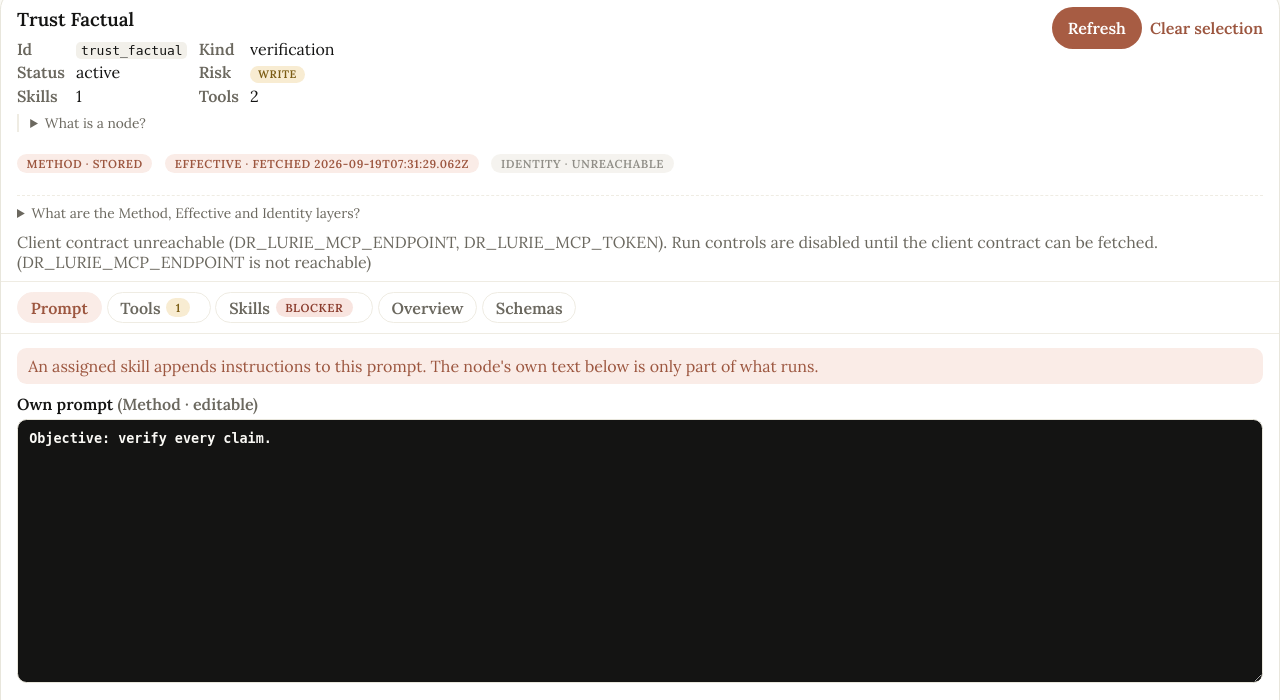
Scenario: NodeInspector › offers both schemas as editable JSON, and keeps the deprecated alias derived
Expected: the text "An assigned skill appends" is shown, left=28, top=356, right=818, bottom=376
Step 1. Click the button "Schemas" → (529, 308), box left=482, top=292, right=576, bottom=323
(page scrolled)
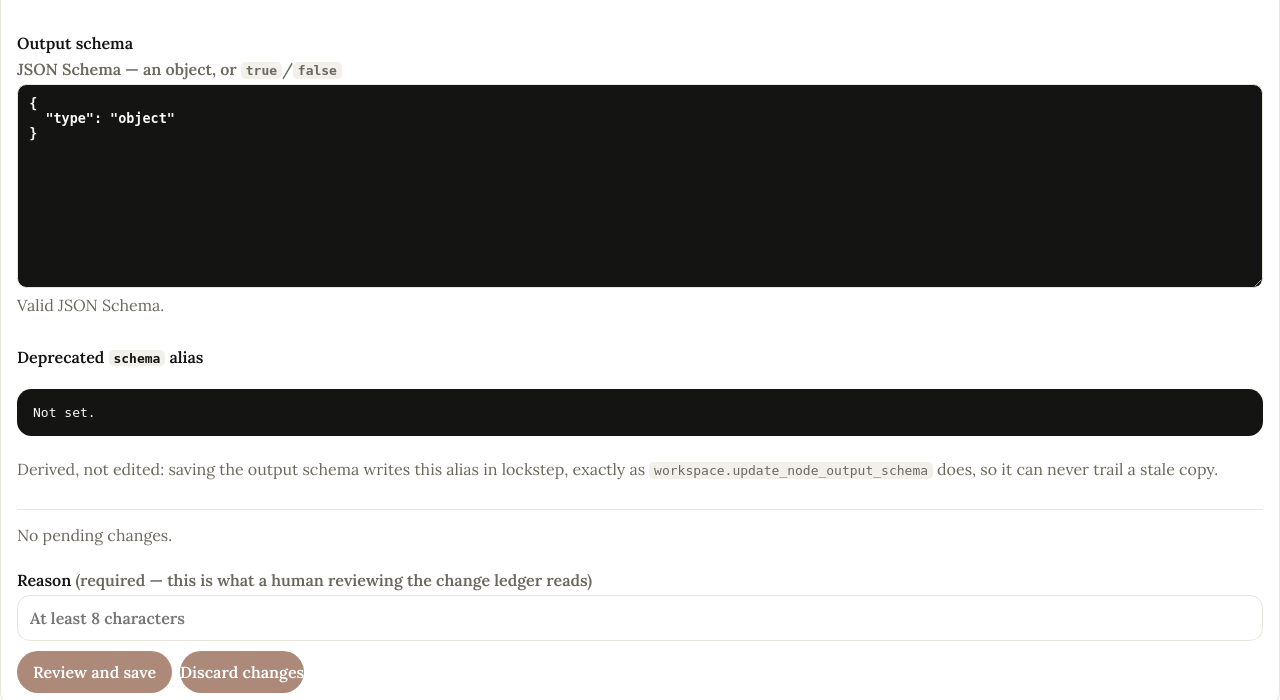
Now the text box named "Output schema JSON" is shown, box left=17, top=84, right=1263, bottom=288
Now the text "Derived, not edited" is shown, box left=17, top=459, right=649, bottom=479
